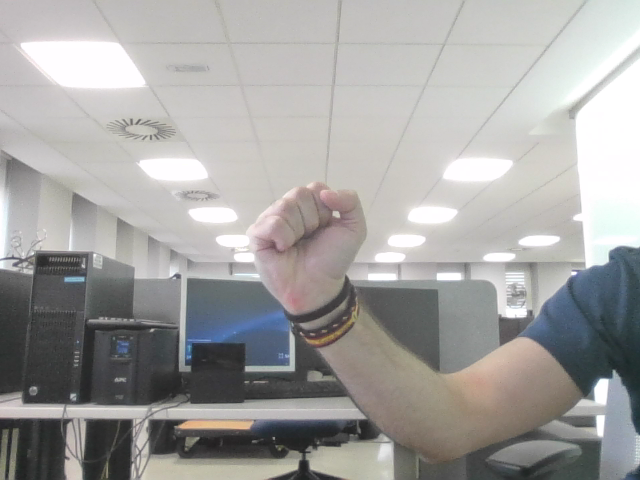Puño: (262, 187, 349, 263)
